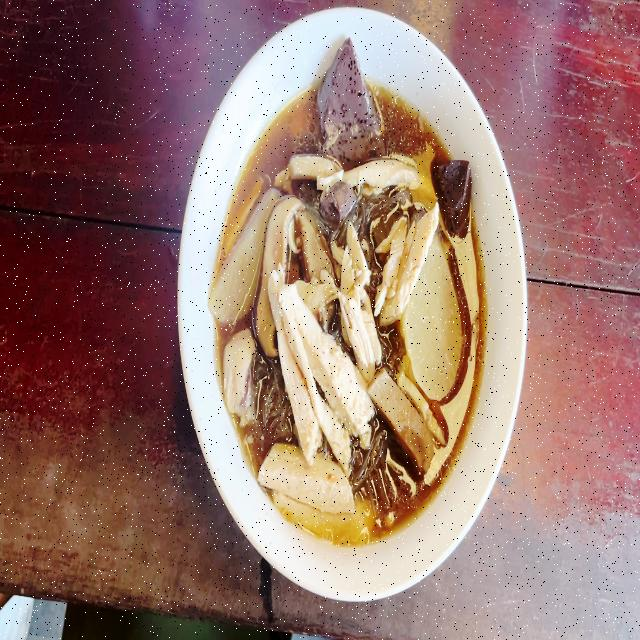boiled_chicken_blood_jelly: (322, 29, 370, 153), (435, 150, 465, 220), (321, 186, 348, 225)
chicken_shredded: (272, 276, 362, 454), (260, 450, 366, 544), (374, 208, 435, 316), (286, 144, 414, 183), (345, 230, 375, 374), (219, 328, 256, 422)
daikon_radish: (408, 262, 461, 390), (212, 191, 260, 310)
noodle: (211, 72, 486, 540)
